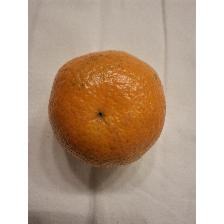Mandarine: (47, 48, 169, 172)
